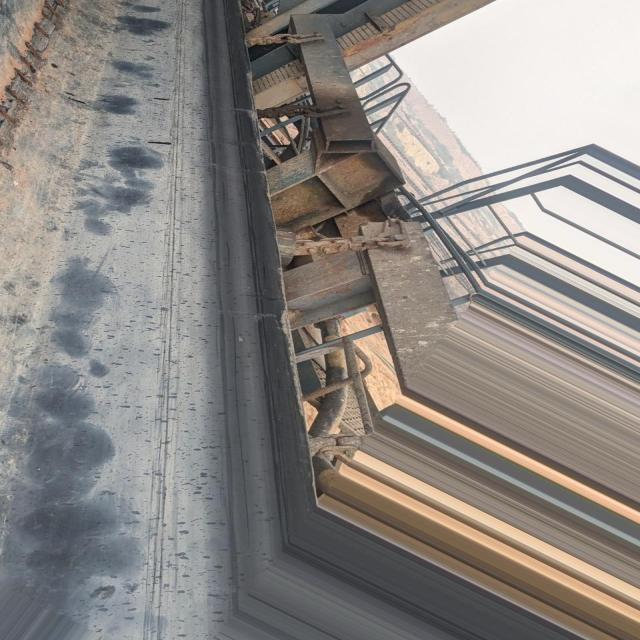patch work: (0, 0, 94, 163)
